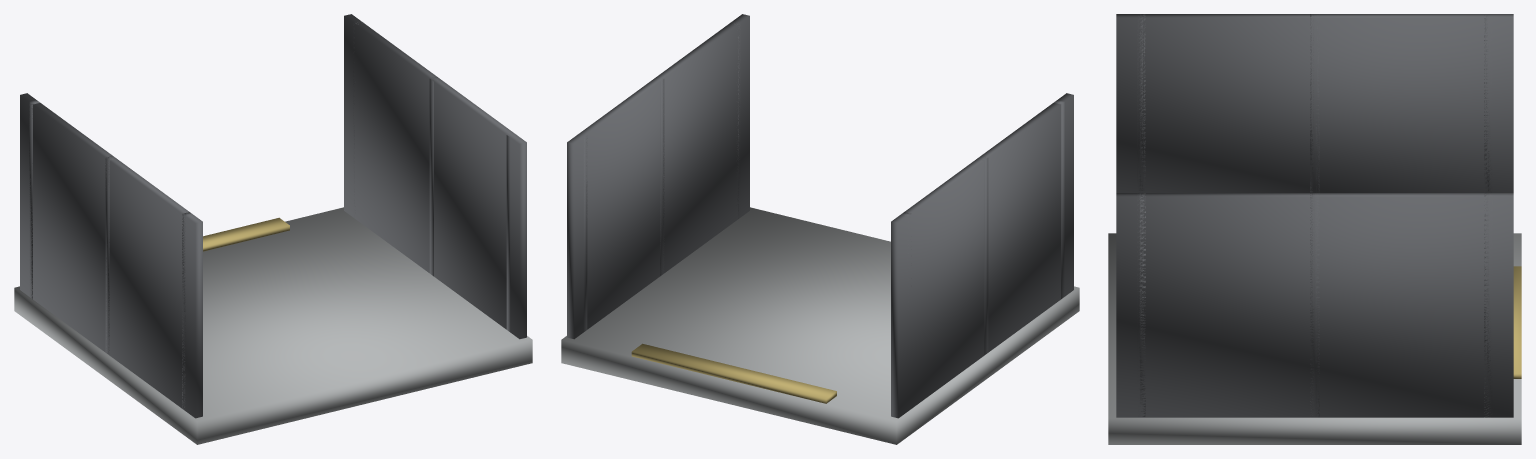
The model's file is floor_w180_d170_sides.glb.
3 renders of one model, left to right at view 1: azimuth 30°, elevation 25°; view 2: azimuth 150°, elevation 25°; view 3: azimuth 270°, elevation 25°, orthographic. The views are drawn at different scales.
Parts seen in each view (by area): view 1: world; view 2: world; view 3: world.
Boxes of the visible parts, left/top/right/bottom form: world: left=14, top=14, right=532, bottom=444; world: left=561, top=14, right=1079, bottom=444; world: left=1108, top=14, right=1521, bottom=444.
Size of the model in its own units: 1.8 by 1.12 by 1.7.
